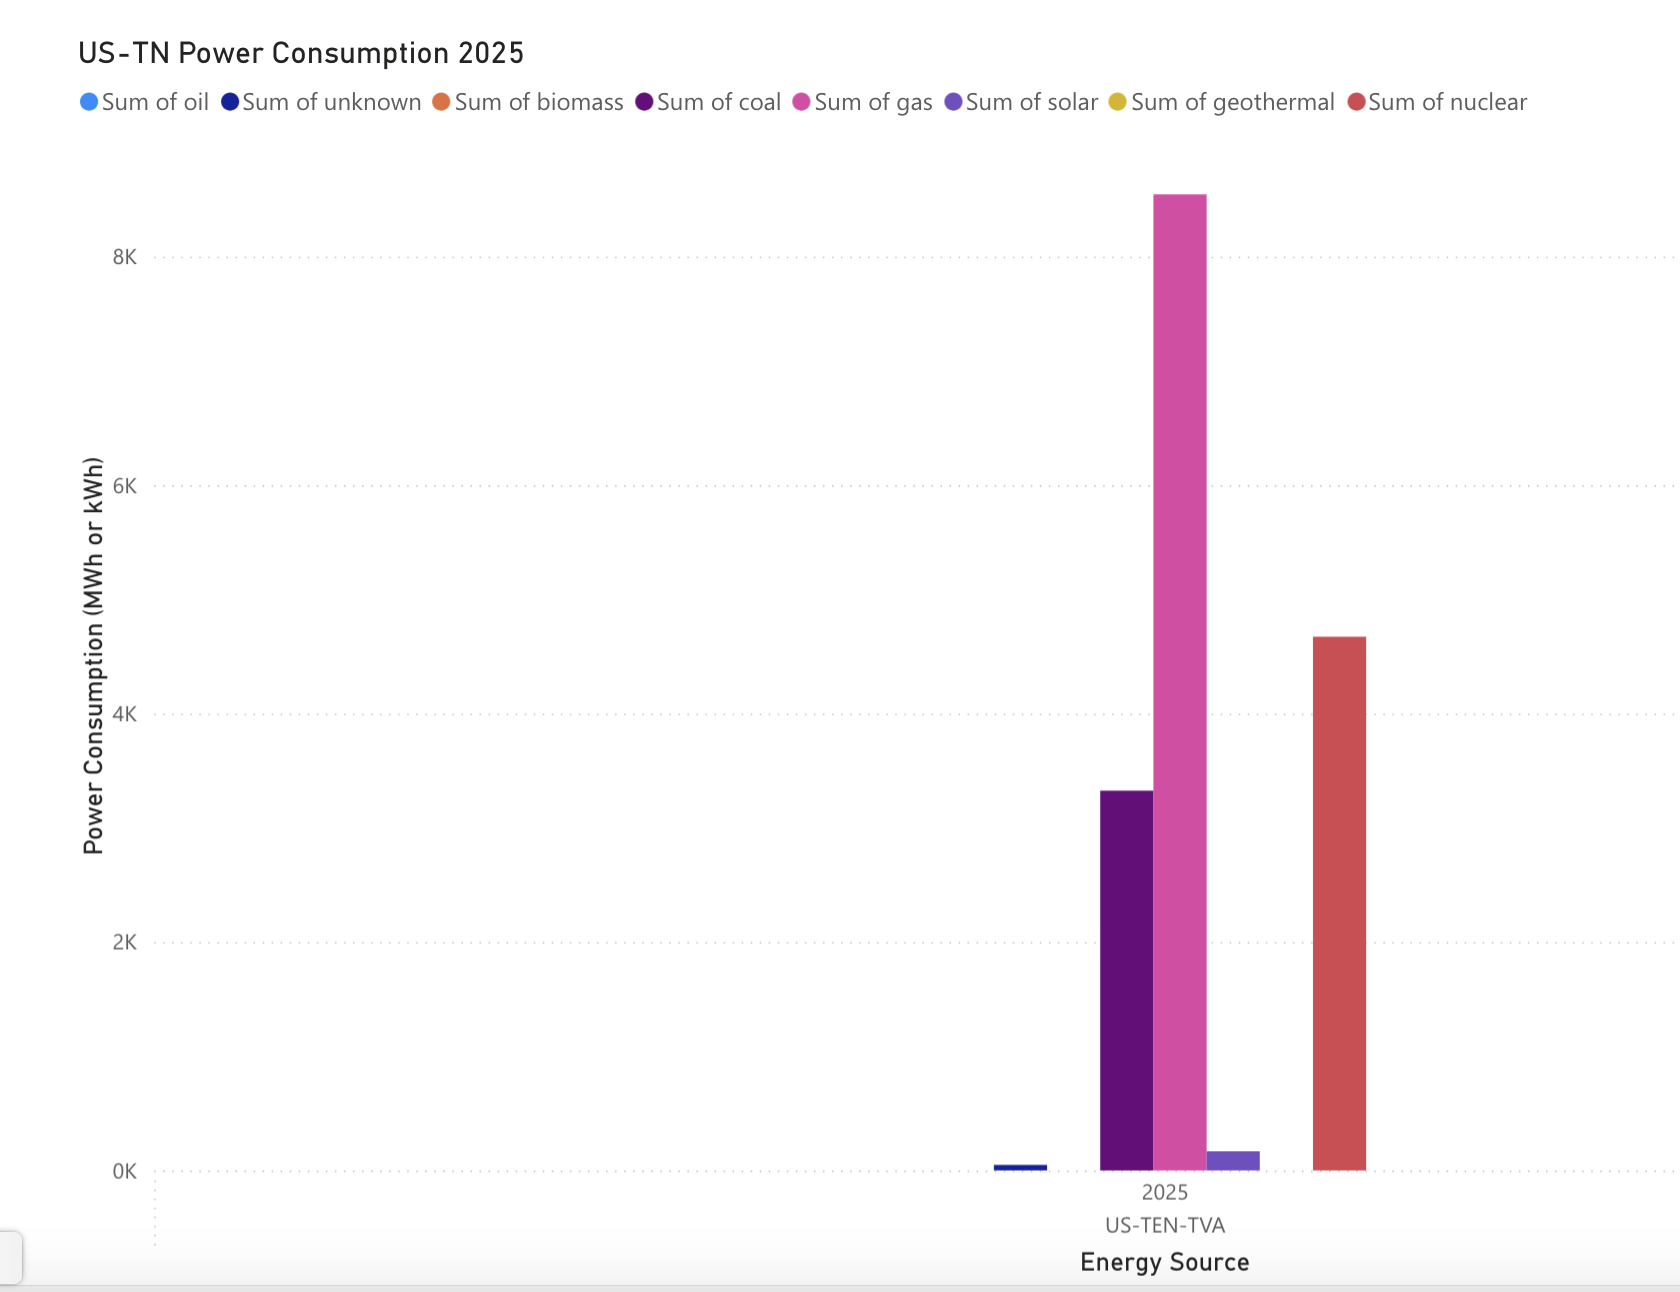

The dashboard page shown, as its layout file describes it:
{"tool":"powerbi","page":{"name":"Page 1","canvas":[1280,720],"ordinal":0},"visuals":[{"type":"clusteredColumnChart","title":"US-TN Power Consumption 2025","fields":{"Category":["power_consumption_breakdown.zone","power_consumption_breakdown.updated_at.Variation.Date Hierarchy.Year"],"Y":["Sum(power_consumption_breakdown.oil)","Sum(power_consumption_breakdown.unknown)","Sum(power_consumption_breakdown.biomass)","Sum(power_consumption_breakdown.coal)","Sum(power_consumption_breakdown.gas)","Sum(power_consumption_breakdown.solar)","Sum(power_consumption_breakdown.geothermal)","Sum(power_consumption_breakdown.nuclear)"]},"box":[15.8,29.6,1170.4,690.8],"z":0}]}

Visuals, with their boxes on the page's 1280x720 design canvas (x1, y1, x2, y2). These are canvas units, not pixel positions in the 1680x1292 screenshot, which may show the page scaled, cropped or inside an application window:
"US-TN Power Consumption 2025" clusteredColumnChart: detection(16, 30, 1186, 720)
